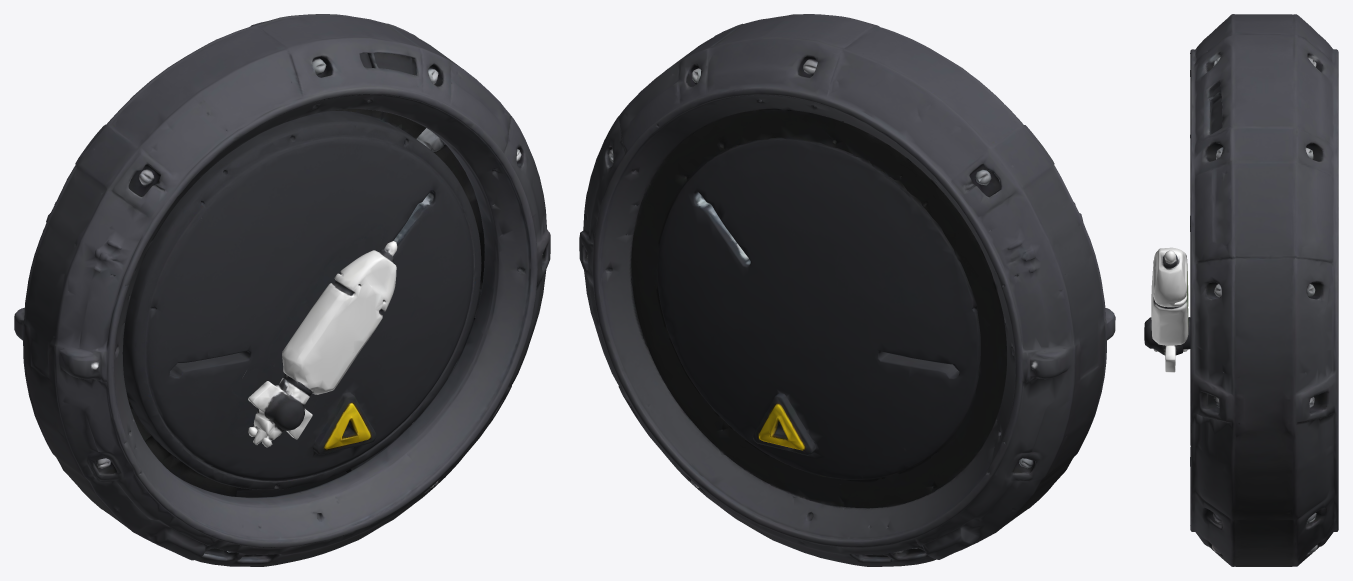
Rendered from missile_button.glb.
3 renders of one model, left to right at view 1: azimuth 30°, elevation 25°; view 2: azimuth 150°, elevation 25°; view 3: azimuth 270°, elevation 25°, orthographic. The views are drawn at different scales.
Parts seen in each view (by area): view 1: tripo_part_6, tripo_part_3, tripo_part_7; view 2: tripo_part_6, tripo_part_4; view 3: tripo_part_6, tripo_part_3.
Boxes of the visible parts, x1,y1,x2,y2 form: tripo_part_6: (14, 14, 550, 566); tripo_part_3: (122, 110, 481, 489); tripo_part_7: (236, 471, 347, 497); tripo_part_6: (579, 14, 1115, 566); tripo_part_4: (630, 109, 1006, 508); tripo_part_6: (1190, 14, 1338, 566); tripo_part_3: (1144, 247, 1190, 372).
Bounding box in the file's own units: 1 × 0.9983 × 0.3514.
4 materials, 4 textured.
